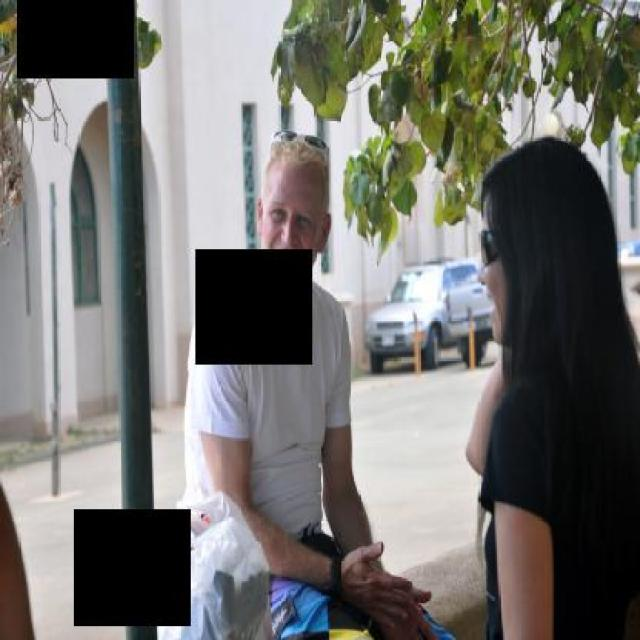plastic bag: (161, 472, 274, 638)
